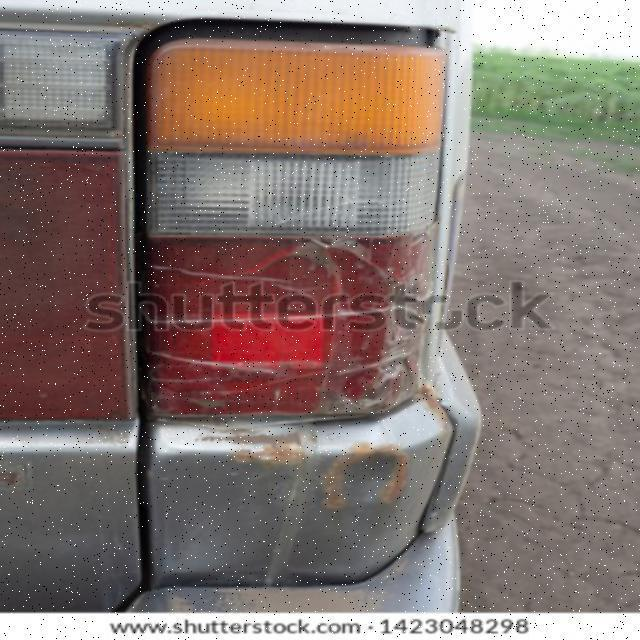Taillight-Damage: (121, 4, 449, 414)
rear-bumper-dent: (0, 382, 549, 616)
